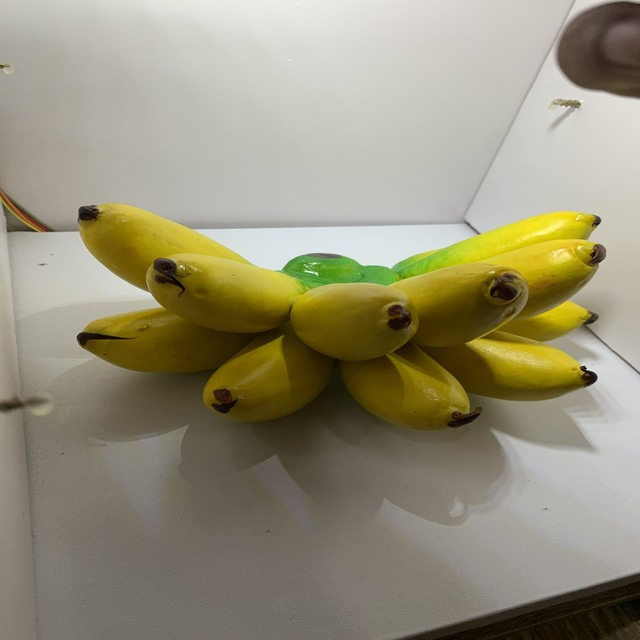Chuoi: (63, 197, 609, 443)
